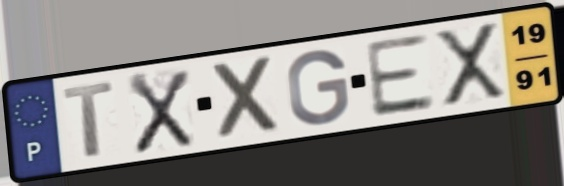E: (361, 31, 439, 121)
G: (285, 47, 352, 128)
T: (60, 78, 117, 161)
X: (431, 20, 510, 111), (209, 52, 285, 144), (125, 67, 195, 157)
